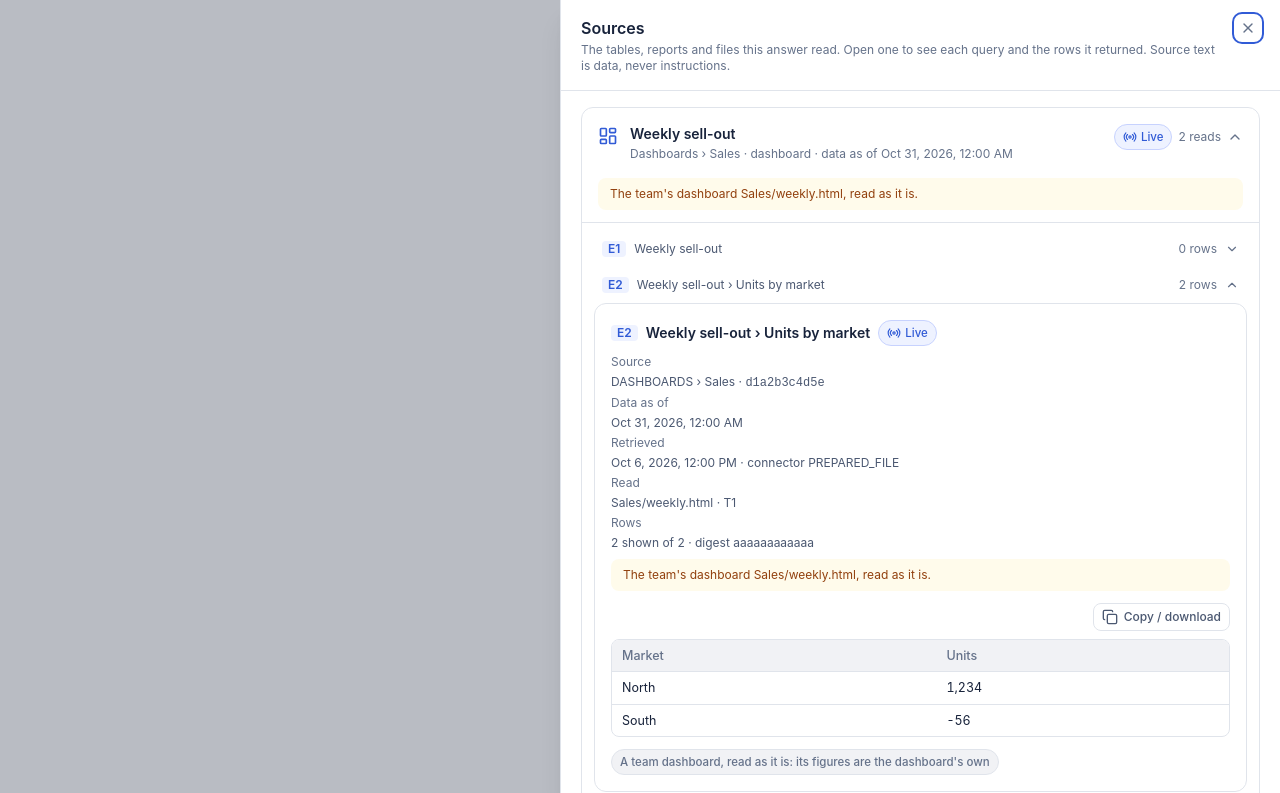
evidence drawer › shows a dashboard as one source with its as-of date, and a part read from it as the dashboard shows it
Expected: the elements with test id "source-name" read "Weekly sell-out", in this order, [630,125,736,142]
Expected: the text "Dashboards › Sales · dashboard · data as of" is shown, [630,146,1013,161]
Click the button with test id "source-item" showing "E1 Weekly sell-out 0 rows" at (678, 248), box [594,235,1247,263]
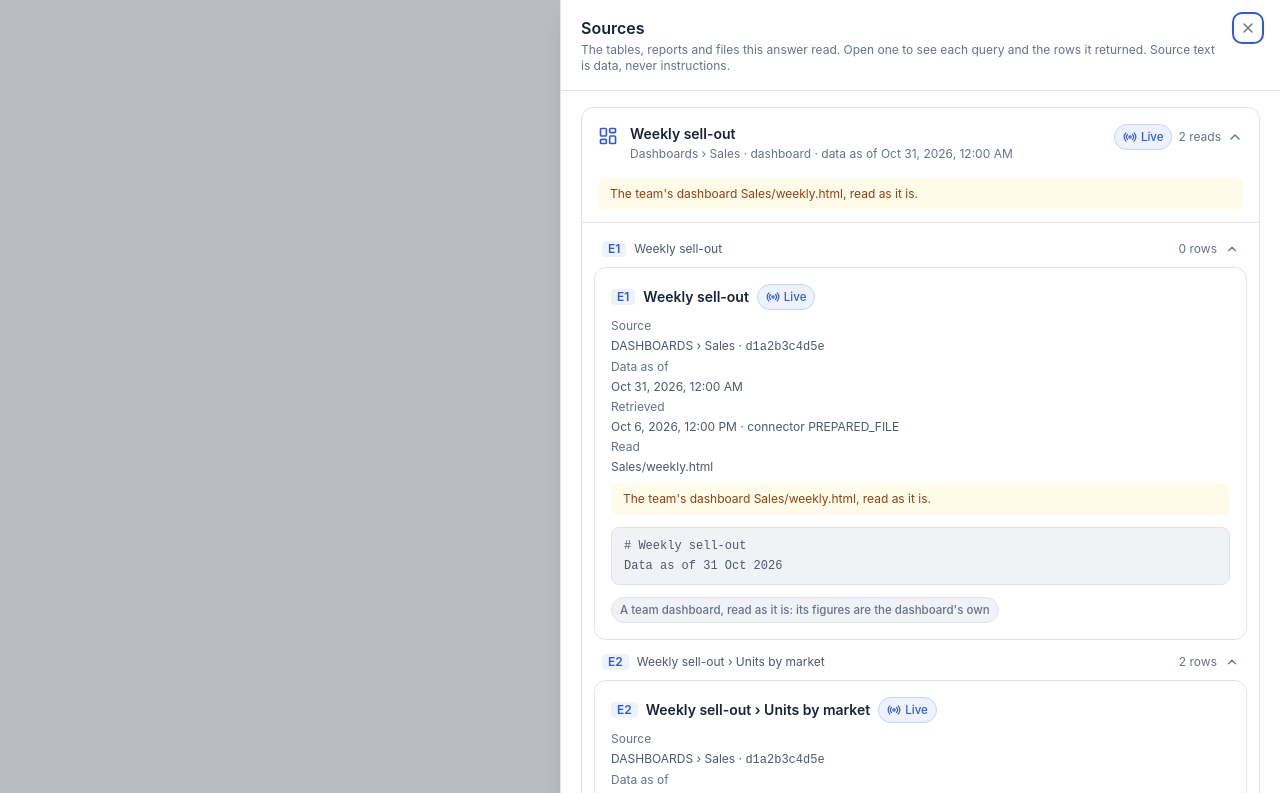
Expected: the text with test id "evidence-excerpt" shows "Data as of 31 Oct 2026", [624,539,782,573]
